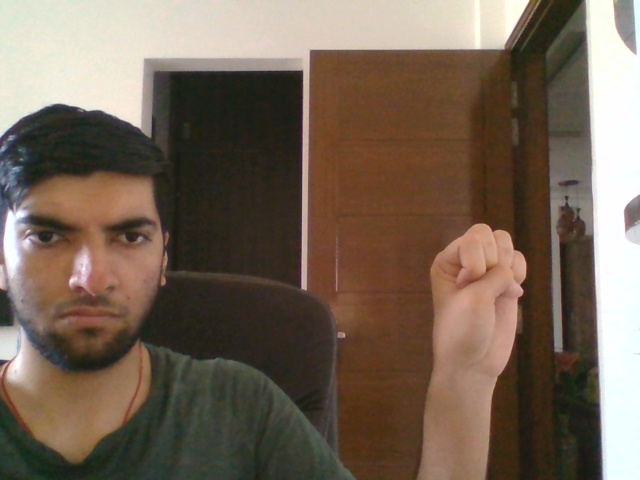LetterS: (428, 221, 529, 392)
